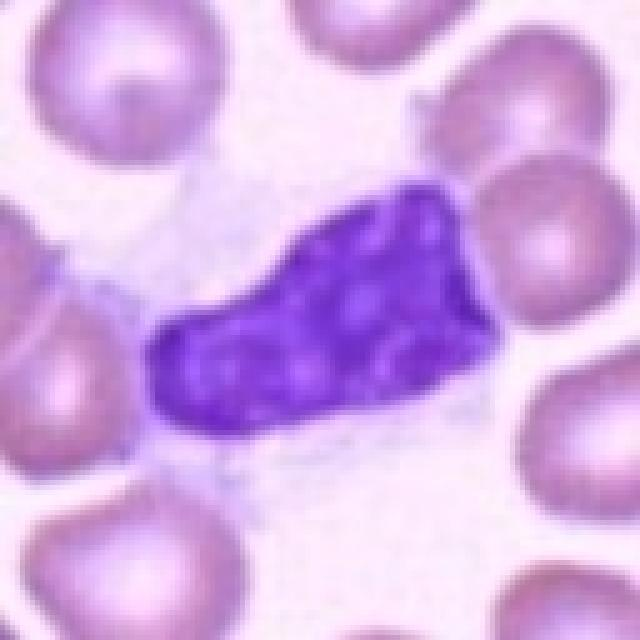lympho: (51, 119, 539, 534)
